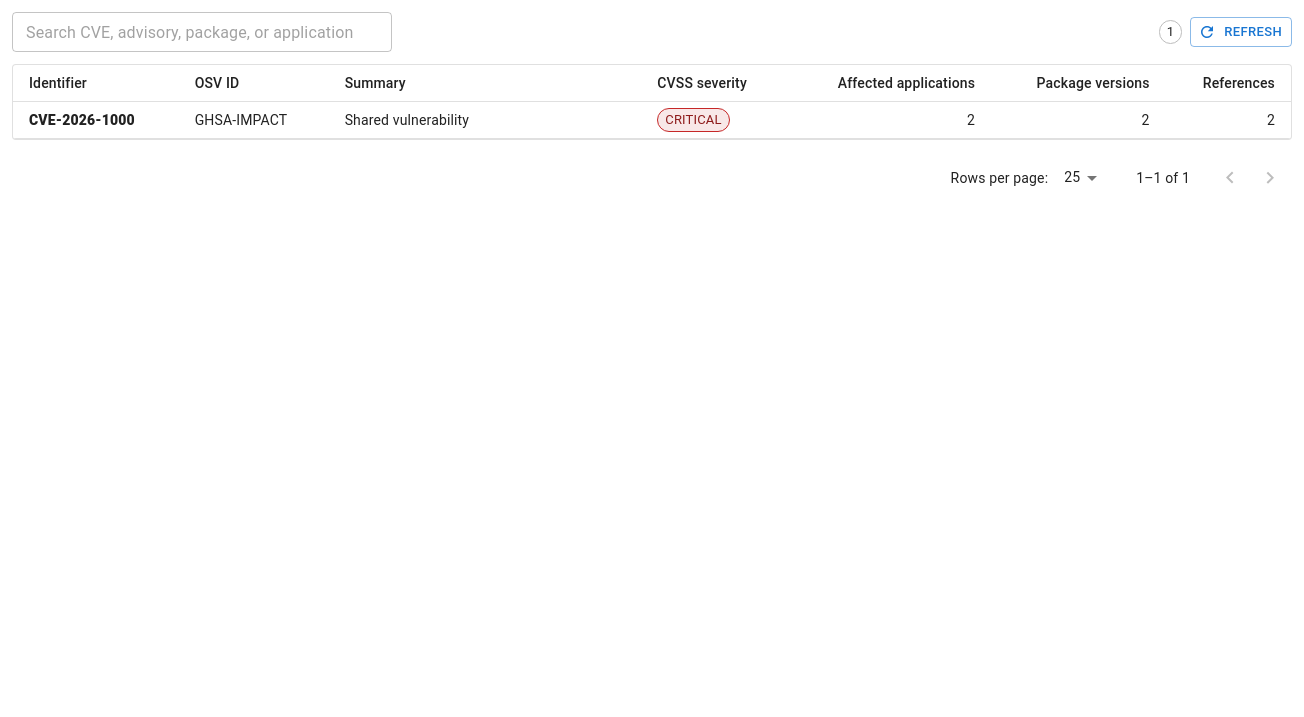
Test: CveImpactView › opens the CVE-centered tree by default
Click the text "CVE-2026-1000".
click(82, 120)  # box left=29, top=112, right=135, bottom=128
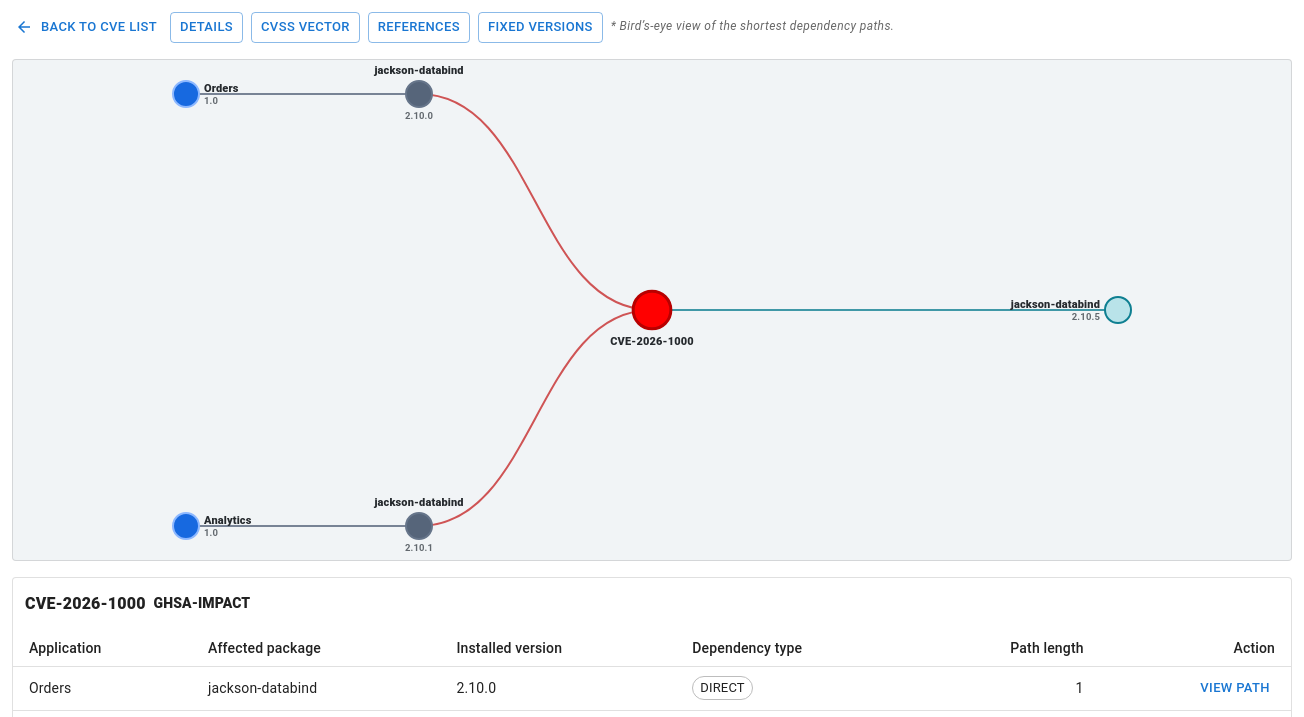
Now the element named "CVE impact and fixes tree" is shown
Now the text "* Bird’s-eye view of the shortest dependency paths." is shown, box left=611, top=17, right=894, bottom=37
